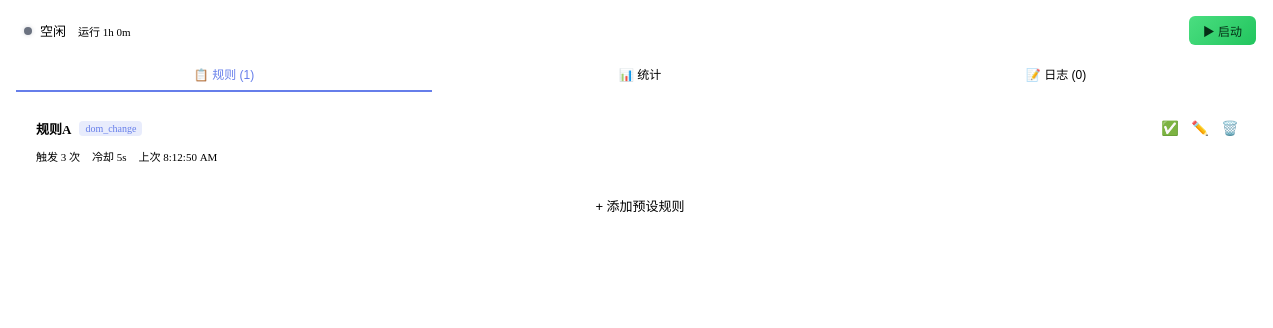
Test: WatchPanel › 统计信息显示 › 有规则触发次数时应该显示每个规则的触发数
Click the button "📊 统计": (640,74) [432, 57, 848, 92]
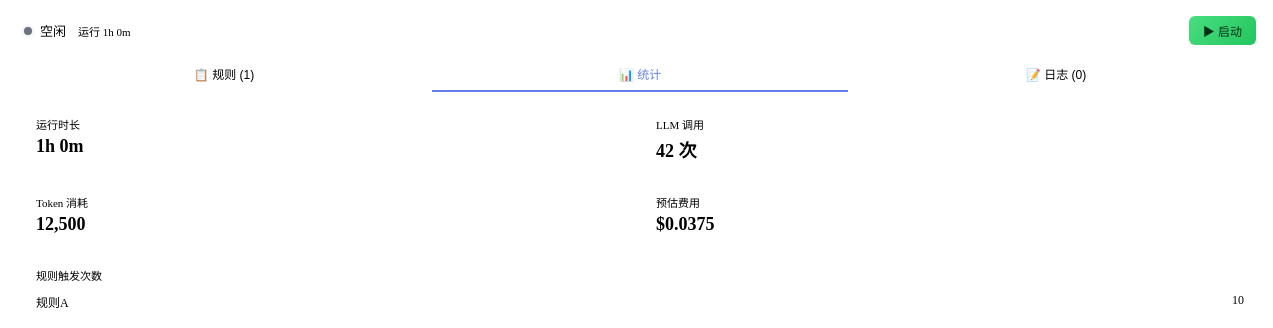
expect the text "规则A" is shown: met, box [36, 293, 69, 311]
expect the text "规则触发次数" is shown: met, box [36, 270, 102, 282]
expect the text "10" is shown: met, box [1232, 293, 1244, 311]
